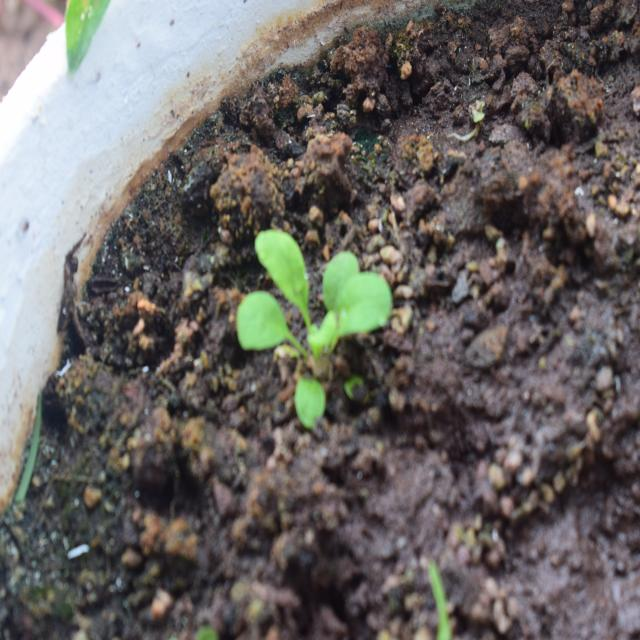Shepherd_Purse: (241, 230, 401, 420)
